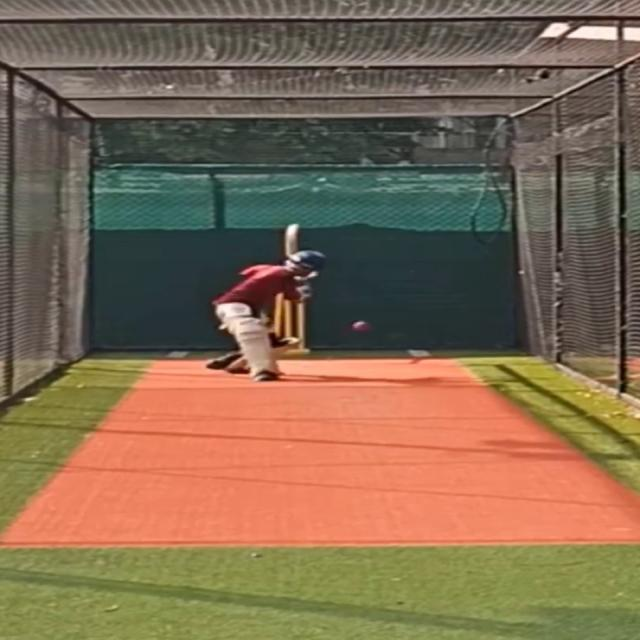stump: (274, 298, 309, 354)
